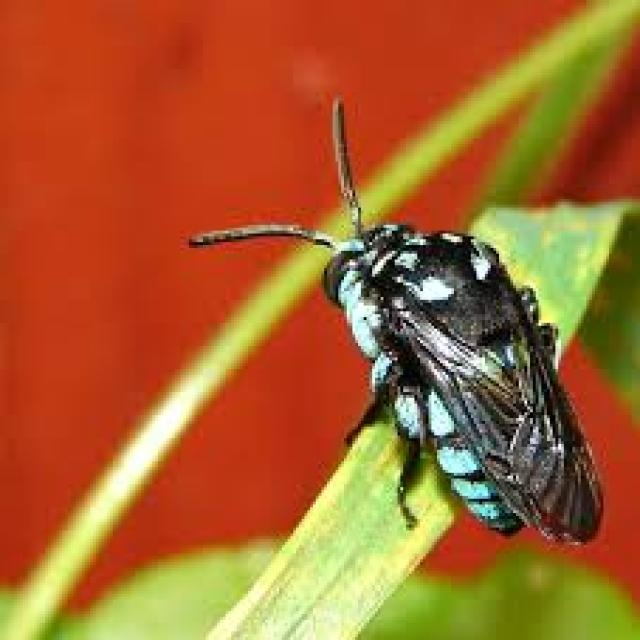Thyreus: (218, 80, 616, 535)
